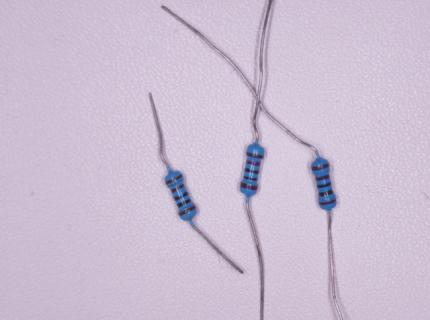Black band: (177, 198, 192, 208), (174, 191, 188, 201), (318, 189, 334, 197), (317, 181, 331, 188)
Brown band: (179, 205, 196, 217), (165, 174, 183, 185), (311, 162, 329, 170), (171, 184, 185, 193), (319, 198, 336, 205), (316, 174, 330, 181)
